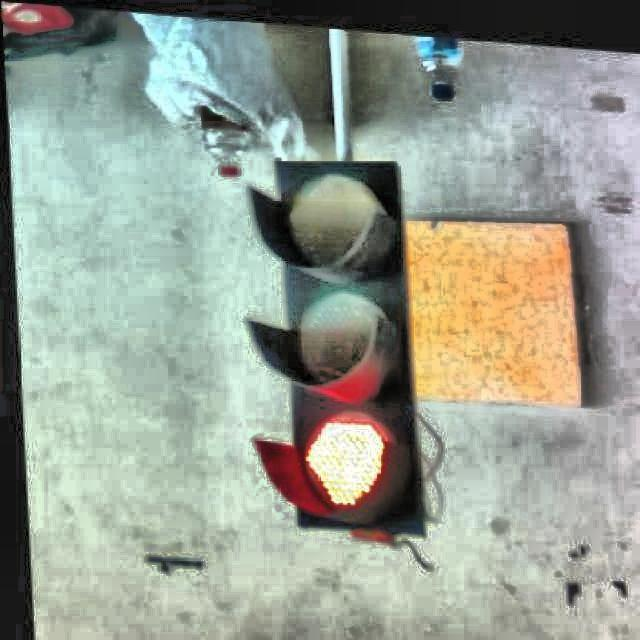red: (249, 153, 431, 545)
